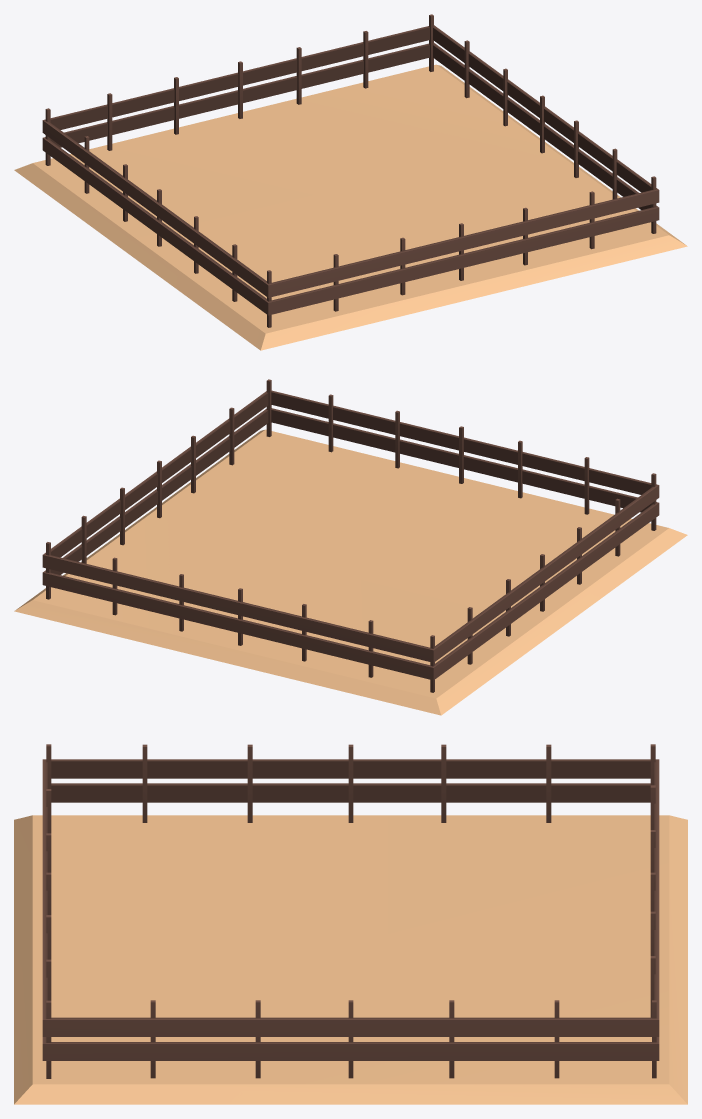
File: coop_001.glb
The picture shows the model from 3 angles, top to bottom: view 1: azimuth 30°, elevation 25°; view 2: azimuth 150°, elevation 25°; view 3: azimuth 270°, elevation 25°; orthographic projection. The views are drawn at different scales.
Parts seen in each view (by area): view 1: coop_001; view 2: coop_001; view 3: coop_001.
Boxes of the visible parts, <box> form: coop_001: <box>14,14,687,350</box>; coop_001: <box>14,379,687,715</box>; coop_001: <box>14,744,687,1104</box>.
Size of the model in its own units: 5.82 by 0.8455 by 5.82.
1 material, 1 textured.
